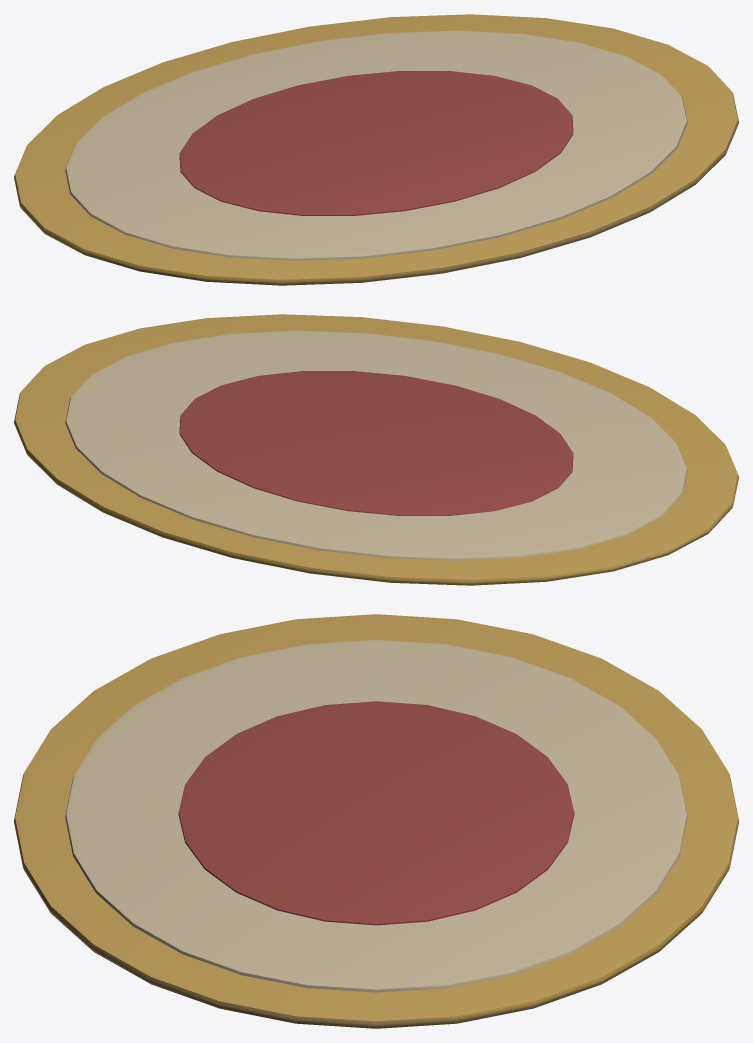
Rendered from RoomRug.fbx.
The picture shows the model from 3 angles, top to bottom: view 1: azimuth 30°, elevation 25°; view 2: azimuth 150°, elevation 25°; view 3: azimuth 270°, elevation 25°; orthographic projection. The views are drawn at different scales.
Visible parts, largest first — view 1: SM_Prop_RoomRug; view 2: SM_Prop_RoomRug; view 3: SM_Prop_RoomRug.
Boxes of the visible parts, x1=… form: SM_Prop_RoomRug: x1=14, y1=14, x2=738, y2=285; SM_Prop_RoomRug: x1=14, y1=314, x2=738, y2=585; SM_Prop_RoomRug: x1=14, y1=614, x2=738, y2=1028.
Bounding box in the file's own units: 4 × 0.065 × 3.
